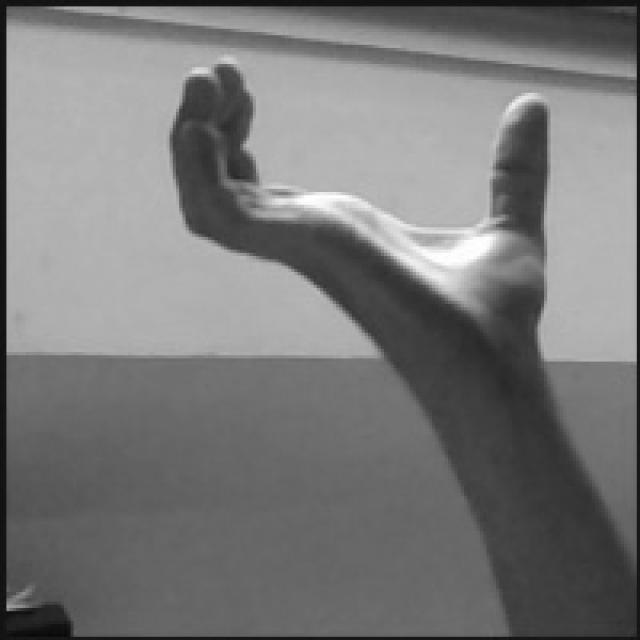space: (167, 50, 553, 348)
